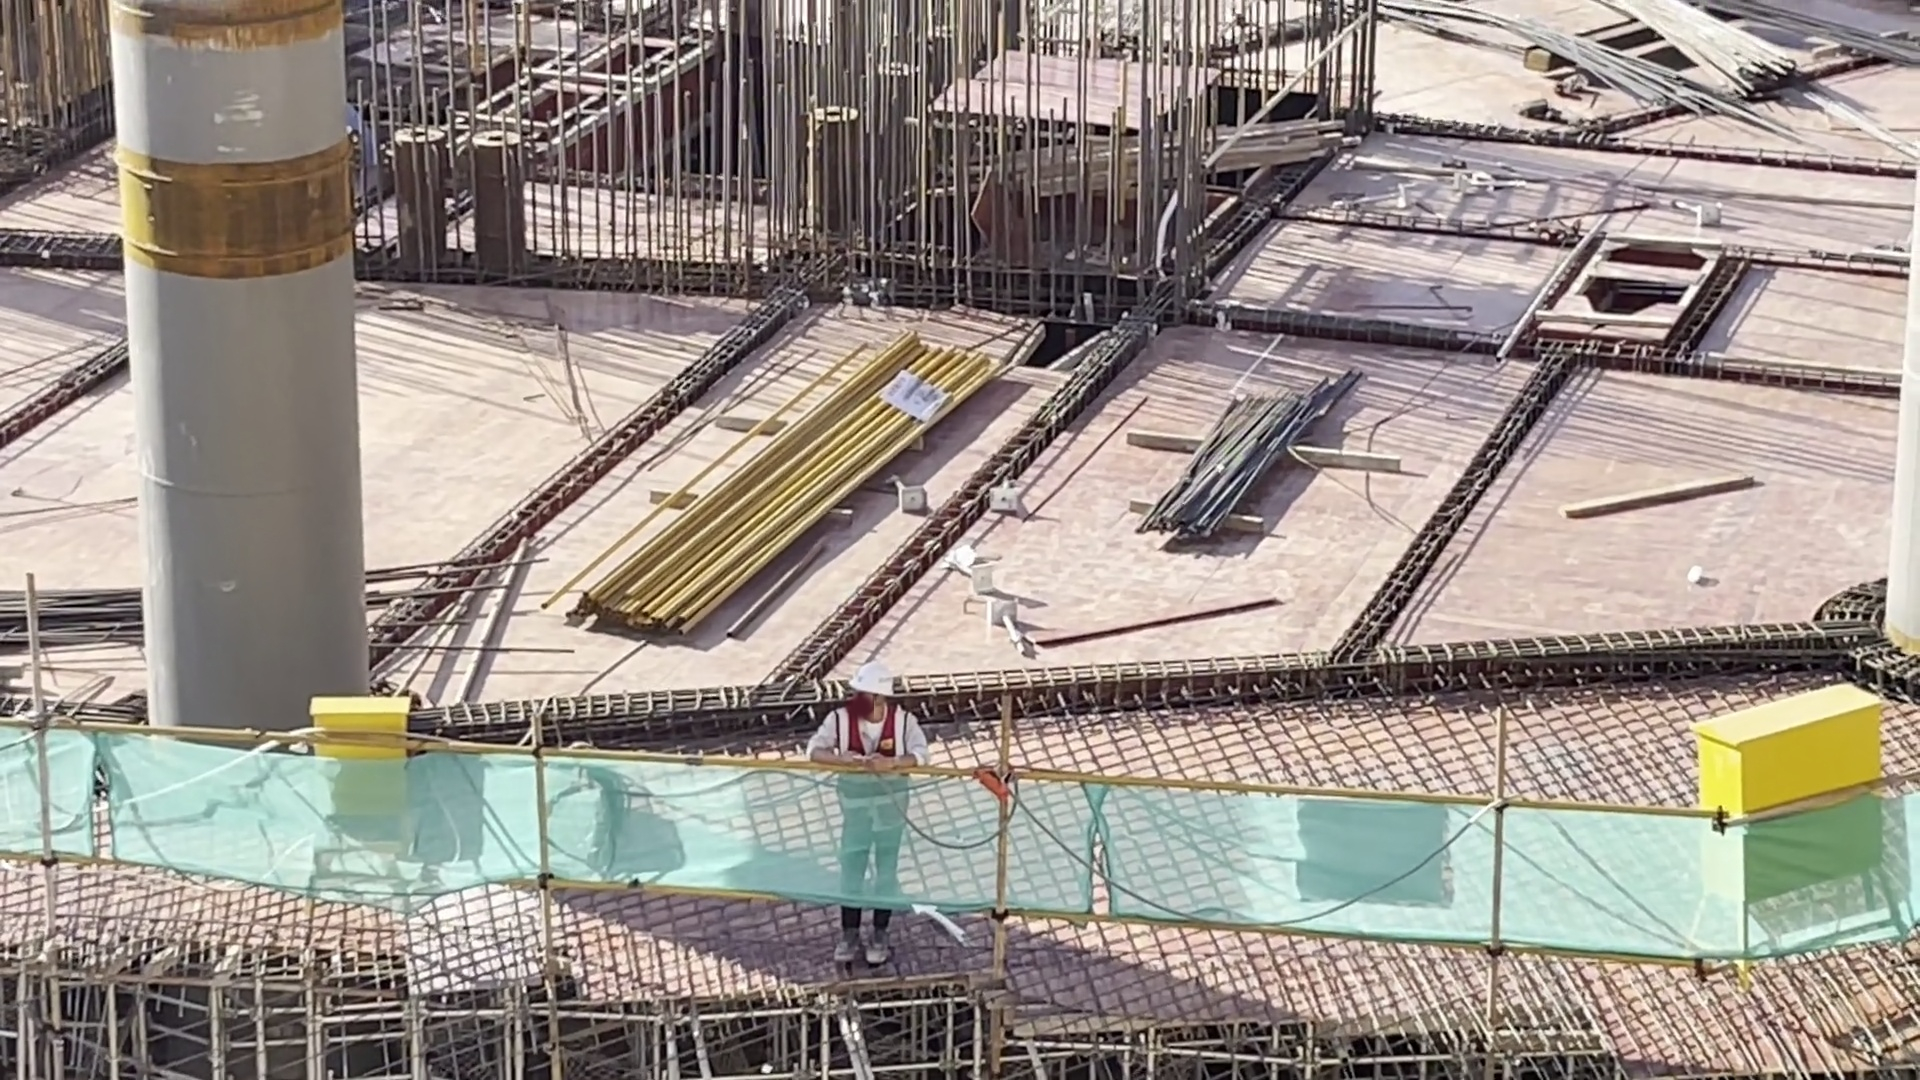ebox: (1684, 645, 1897, 897), (301, 678, 418, 839)
helmet: (852, 663, 898, 702)
person: (812, 657, 922, 972)
vest: (827, 707, 911, 837)
